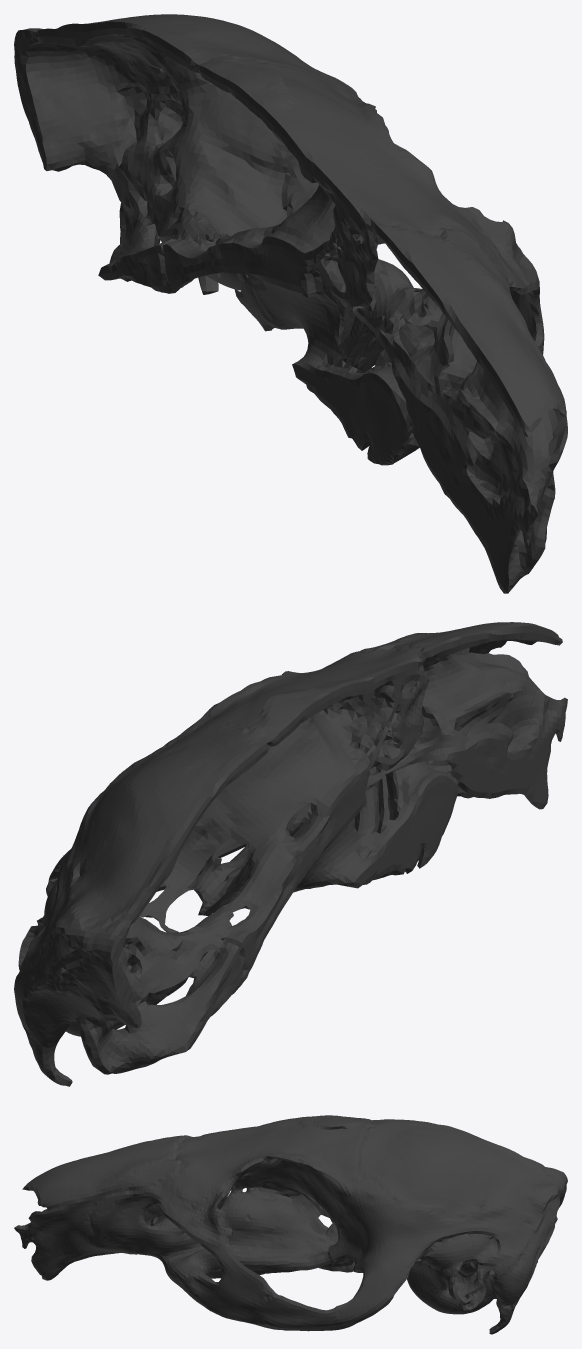
Rendered from Top_Skull_1.glb.
3 renders of one model, top to bottom at view 1: azimuth 30°, elevation 25°; view 2: azimuth 150°, elevation 25°; view 3: azimuth 270°, elevation 25°, orthographic. The views are drawn at different scales.
Parts seen in each view (by area): view 1: Top_Skull_1; view 2: Top_Skull_1; view 3: Top_Skull_1.
Part boxes in pixels (x1,y1,x2,y2): Top_Skull_1: [14, 14, 567, 593]; Top_Skull_1: [14, 622, 567, 1086]; Top_Skull_1: [14, 1115, 567, 1334].
Bounding box in the file's own units: 1.62 × 2.13 × 5.74.
1 material, 1 textured.
